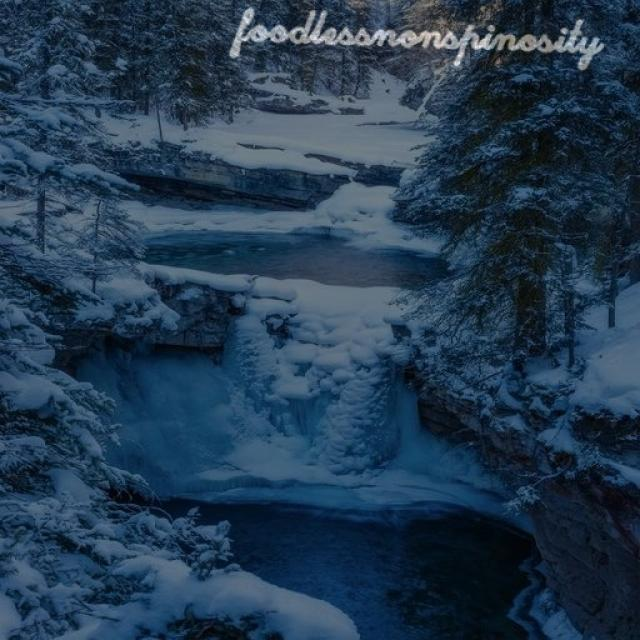watermark: (227, 6, 633, 60)
